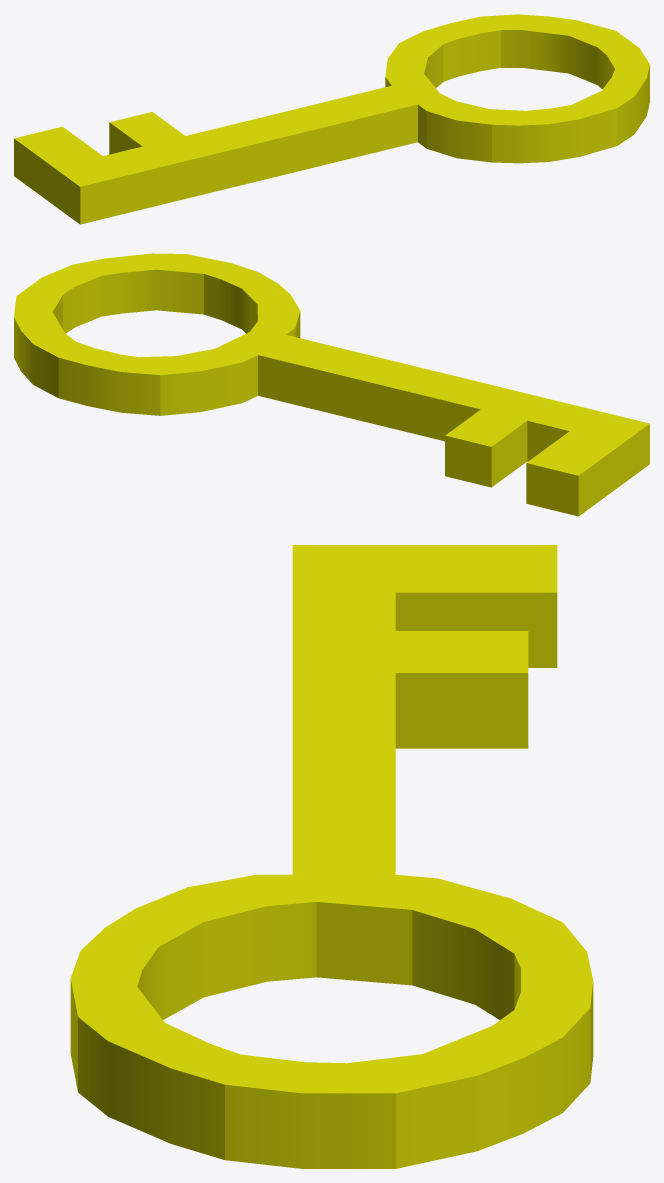
File: Key 1.fbx
3 renders of one model, top to bottom at view 1: azimuth 30°, elevation 25°; view 2: azimuth 150°, elevation 25°; view 3: azimuth 270°, elevation 25°, orthographic. The views are drawn at different scales.
Visible parts, largest first — view 1: Key; view 2: Key; view 3: Key.
Boxes of the visible parts, x1=… form: Key: x1=14, y1=14, x2=649, y2=224; Key: x1=14, y1=253, x2=649, y2=516; Key: x1=70, y1=545, x2=593, y2=1168.
Size of the model in its own units: 2.57 by 0.1651 by 1.04.
